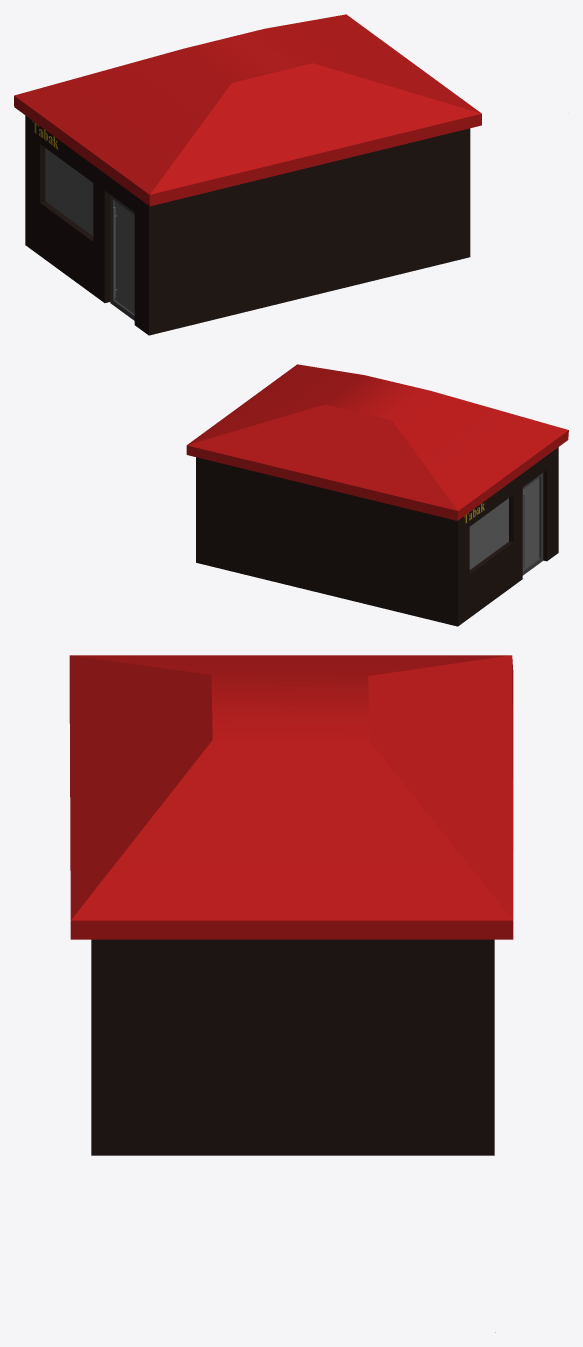
Rendered from tabakladen1.DAE.
3 renders of one model, top to bottom at view 1: azimuth 30°, elevation 25°; view 2: azimuth 150°, elevation 25°; view 3: azimuth 270°, elevation 25°, orthographic. The views are drawn at different scales.
Parts seen in each view (by area): view 1: house, roof, window2, pCube1, door1; view 2: house, roof, window2, pCube1, door1; view 3: roof, house.
Boxes of the visible parts, x1=… form: house: x1=25, y1=115, x2=470, y2=335; roof: x1=14, y1=14, x2=481, y2=206; window2: x1=45, y1=148, x2=93, y2=235; pCube1: x1=115, y1=201, x2=134, y2=313; door1: x1=110, y1=195, x2=134, y2=320; house: x1=196, y1=447, x2=558, y2=626; roof: x1=186, y1=364, x2=568, y2=520; window2: x1=469, y1=498, x2=508, y2=569; pCube1: x1=522, y1=478, x2=539, y2=569; door1: x1=522, y1=473, x2=543, y2=575; roof: x1=69, y1=655, x2=513, y2=939; house: x1=91, y1=939, x2=494, y2=1155.
Bounding box in the file's own units: 404 × 138 × 173.
